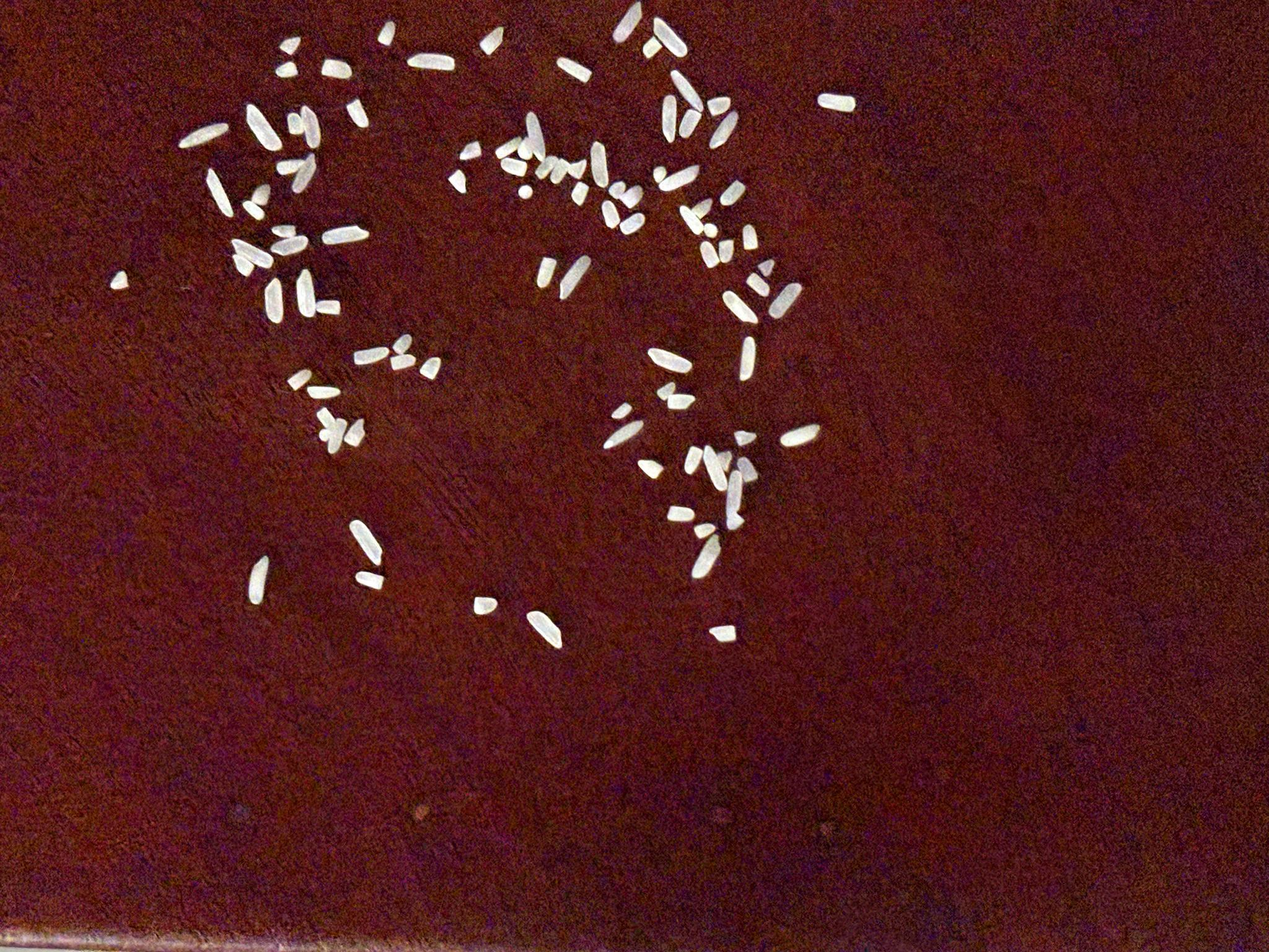Rice-th-y-nh: (245, 104, 283, 152), (349, 520, 383, 565), (559, 256, 591, 300), (527, 610, 563, 649), (671, 71, 704, 112), (653, 18, 687, 57), (178, 122, 229, 148), (206, 170, 234, 217), (692, 536, 722, 579), (613, 2, 643, 43), (769, 282, 802, 319), (231, 240, 274, 268), (648, 347, 692, 374), (217, 933, 279, 952), (150, 928, 199, 952), (603, 420, 643, 449), (709, 111, 739, 149), (723, 291, 757, 324), (658, 165, 699, 192), (248, 555, 270, 604), (525, 112, 547, 160), (704, 447, 727, 491), (292, 154, 317, 193), (296, 269, 316, 317), (322, 225, 368, 245), (781, 424, 820, 447), (725, 470, 744, 516), (301, 107, 322, 148), (557, 57, 591, 82), (591, 142, 609, 187), (265, 279, 283, 324), (326, 418, 348, 454), (272, 235, 309, 256), (740, 336, 757, 381), (661, 95, 677, 142), (679, 205, 704, 235), (408, 54, 454, 70), (480, 27, 504, 55), (346, 99, 369, 128), (818, 94, 855, 112), (720, 181, 746, 206), (353, 347, 389, 365), (679, 109, 701, 138), (275, 938, 320, 952), (344, 419, 366, 447), (495, 137, 523, 159), (322, 59, 352, 79), (536, 258, 556, 287), (620, 213, 646, 235), (535, 155, 558, 179), (736, 457, 757, 483), (684, 446, 703, 474), (620, 185, 643, 208), (747, 273, 769, 297), (602, 200, 620, 229), (355, 571, 384, 589), (276, 158, 305, 176), (550, 158, 570, 184), (700, 241, 719, 268), (232, 254, 254, 277), (288, 369, 312, 390), (307, 385, 340, 400), (500, 158, 527, 176), (707, 97, 731, 117), (709, 625, 737, 642), (638, 460, 663, 479), (420, 357, 441, 379), (473, 597, 498, 615), (667, 394, 695, 410), (390, 353, 416, 370), (251, 184, 271, 206), (242, 201, 265, 220), (448, 170, 467, 193), (667, 506, 694, 522), (378, 21, 395, 46), (317, 408, 336, 430), (643, 36, 662, 58), (691, 199, 713, 218), (742, 225, 758, 250), (734, 430, 757, 447), (572, 182, 589, 205), (287, 112, 304, 135), (280, 37, 301, 55), (460, 142, 481, 160), (316, 300, 341, 315), (271, 224, 296, 239), (718, 240, 734, 263), (275, 62, 298, 78), (568, 160, 587, 179), (393, 334, 412, 353), (657, 382, 676, 401), (694, 523, 715, 539), (518, 138, 533, 160), (110, 271, 128, 289), (757, 259, 775, 277), (609, 181, 626, 200), (612, 403, 632, 419), (518, 185, 533, 200), (704, 223, 718, 238), (319, 428, 333, 442)
